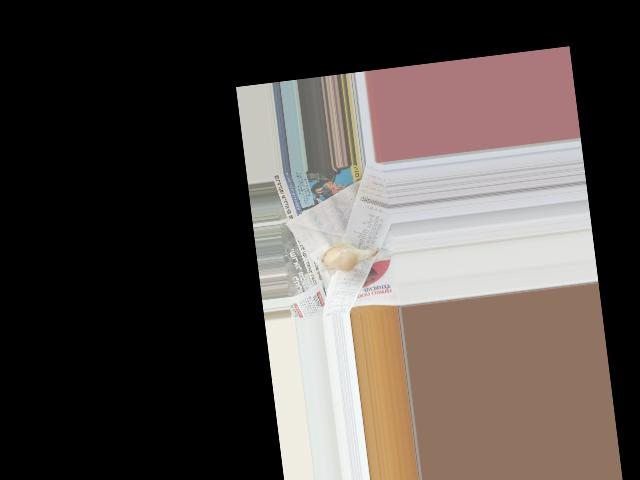onion: (316, 238, 366, 274)
